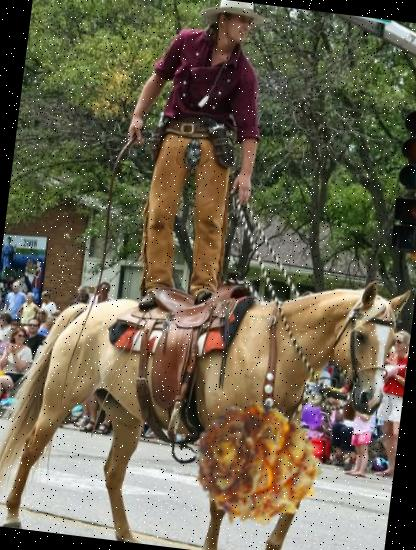Pineapple: (186, 390, 333, 537)
